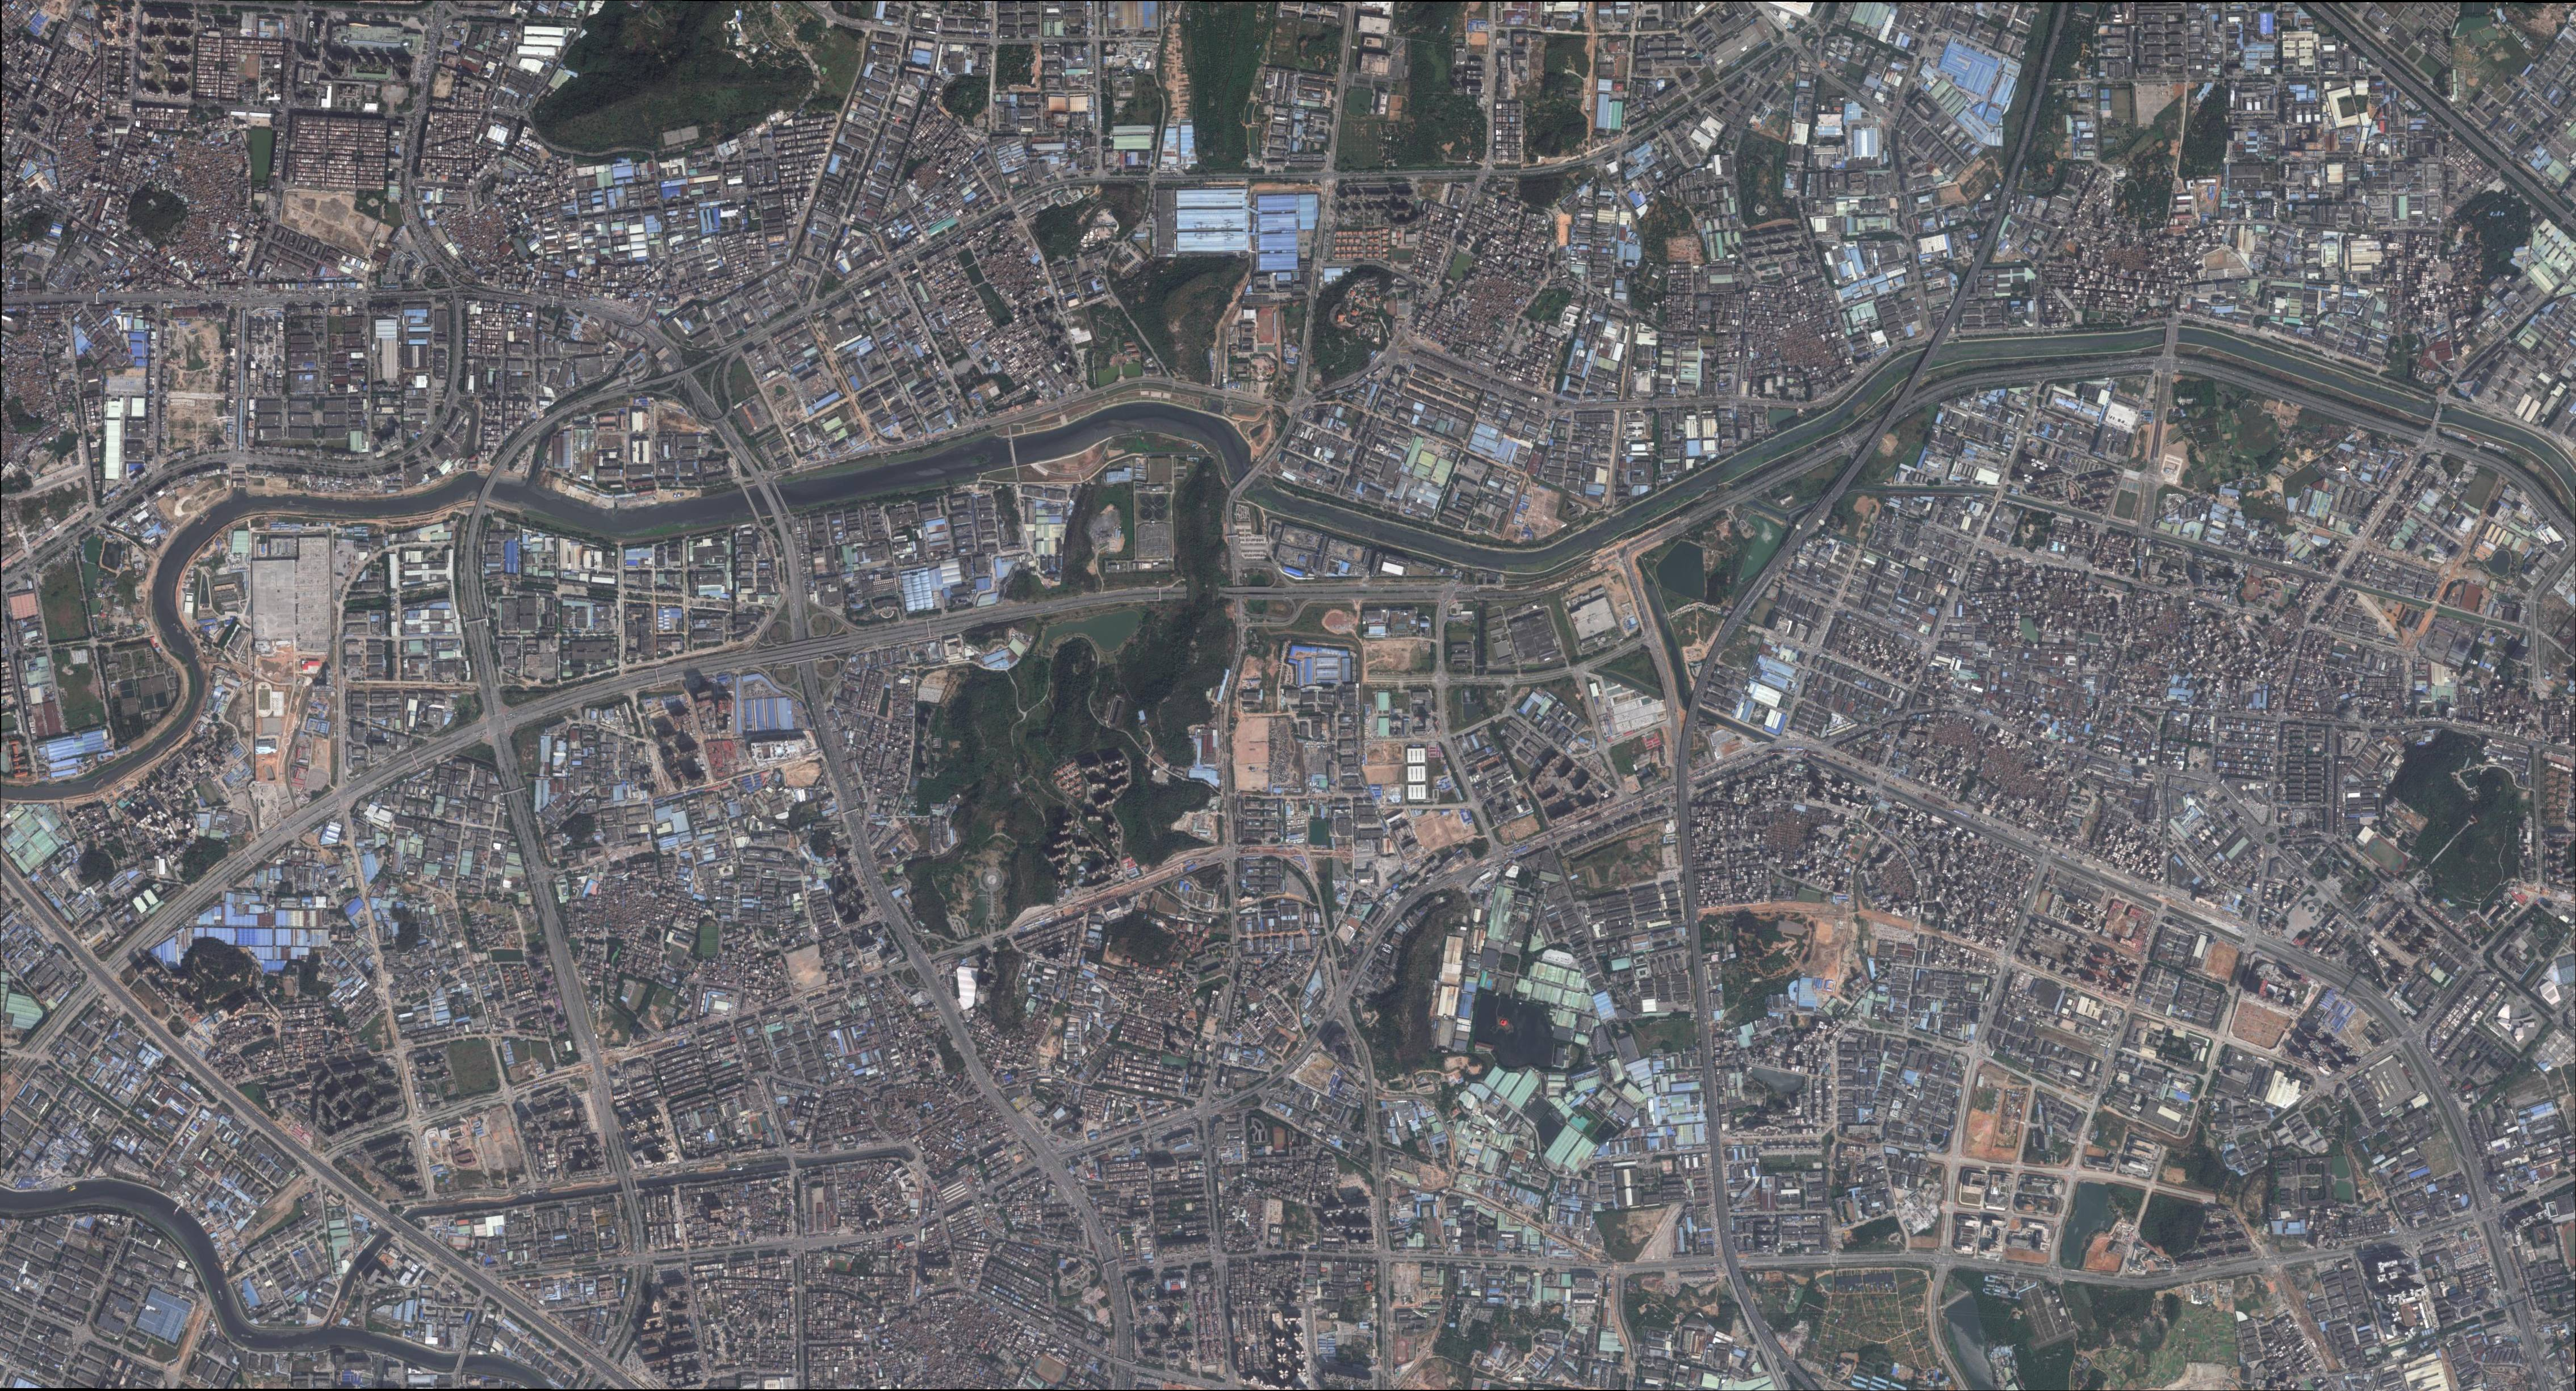bridge: (1919, 337, 1945, 373), (757, 483, 782, 516), (1233, 467, 1260, 497), (771, 481, 790, 514), (742, 486, 760, 519), (479, 472, 499, 503), (2165, 325, 2179, 343), (455, 1353, 466, 1372), (2433, 403, 2444, 422), (393, 1218, 408, 1229), (1689, 702, 1700, 715), (619, 1176, 628, 1192), (390, 1222, 403, 1232), (625, 1175, 633, 1191), (788, 1157, 797, 1170), (633, 1177, 639, 1190)
ground track field: (2363, 832, 2411, 878), (1031, 1352, 1073, 1389), (256, 681, 273, 718), (664, 944, 686, 971), (1847, 834, 1868, 861), (1258, 308, 1274, 342), (2034, 890, 2053, 915), (2243, 577, 2261, 602), (2399, 1304, 2416, 1327), (1392, 249, 1415, 264), (1395, 1339, 1409, 1365), (828, 1259, 853, 1273), (748, 1117, 763, 1139), (246, 54, 259, 79), (1616, 56, 1627, 78), (284, 979, 294, 997)
roundabout: (2265, 832, 2277, 845)
soccer ball field: (2371, 840, 2402, 869), (1038, 1358, 1063, 1380), (258, 689, 270, 710), (1262, 316, 1271, 336), (669, 949, 681, 965), (2038, 894, 2049, 911), (1852, 840, 1864, 854), (2403, 1308, 2412, 1324), (2246, 583, 2256, 596), (751, 1121, 760, 1134), (1395, 252, 1411, 259), (835, 1262, 848, 1271), (250, 58, 257, 73), (1398, 1346, 1406, 1358), (1619, 61, 1624, 73), (287, 983, 291, 992)
storage tank: (397, 1292, 402, 1297), (391, 1293, 396, 1298), (354, 1306, 359, 1312), (351, 1313, 355, 1318), (377, 1298, 381, 1302), (386, 1295, 389, 1299), (372, 1301, 375, 1305)
